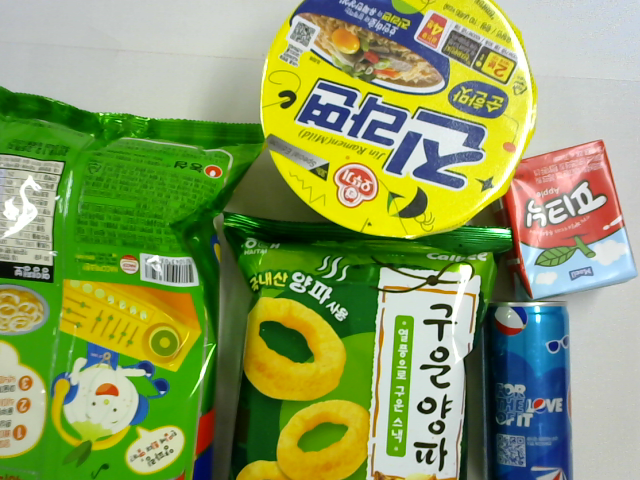Grilled_Onions: (220, 214, 512, 480)
Jinlamyeon_Mild_Taste_Large_Cup: (260, 1, 539, 240)
Oninon_Ring: (1, 83, 263, 479)
Pepsi_Cola_Can_250ml: (484, 301, 569, 480)
Picnic_Apple: (505, 141, 637, 301)
